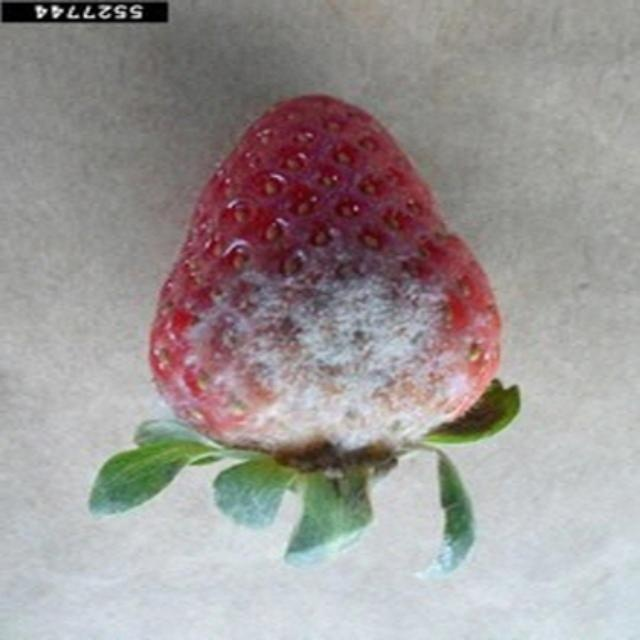Powdery Mildew Fruit: (157, 207, 504, 462)
